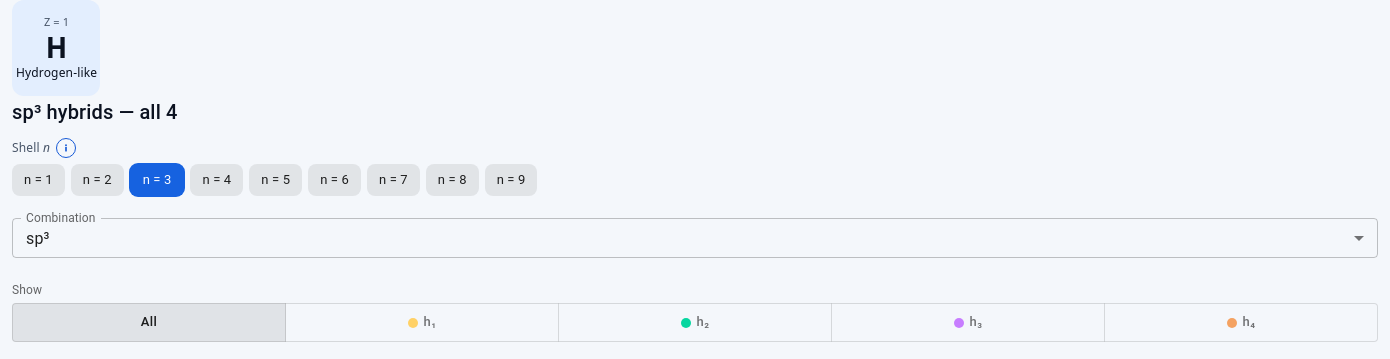
Test: BasicExplore (spec §9.2: header tile, chips, draw on selection) › ruling T1 M2: pressing n while a combination is active leaves it and selects
This screenshot has width=1390, height=359.
Click the button "n = 4" at [217, 180], box x1=190 y1=164 x2=243 y2=196
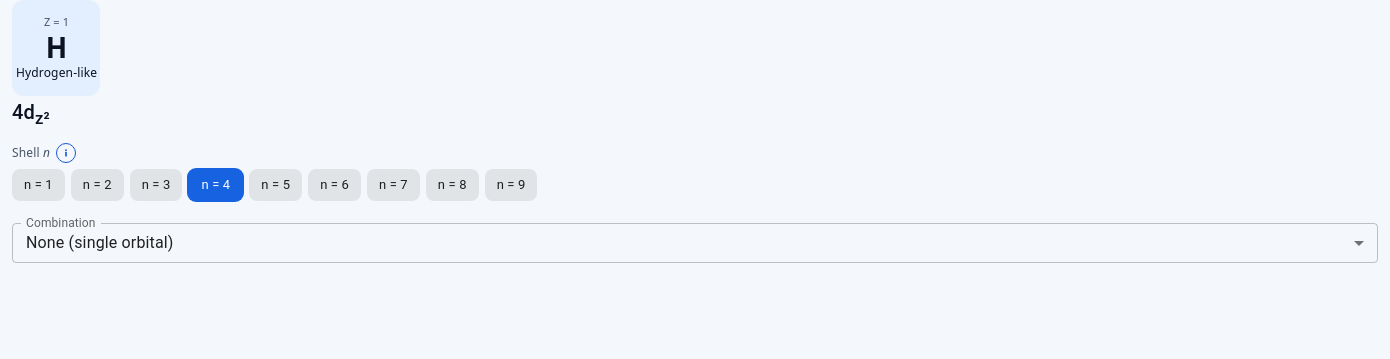
Result: the heading "sp³ hybrids — all 4" is gone
